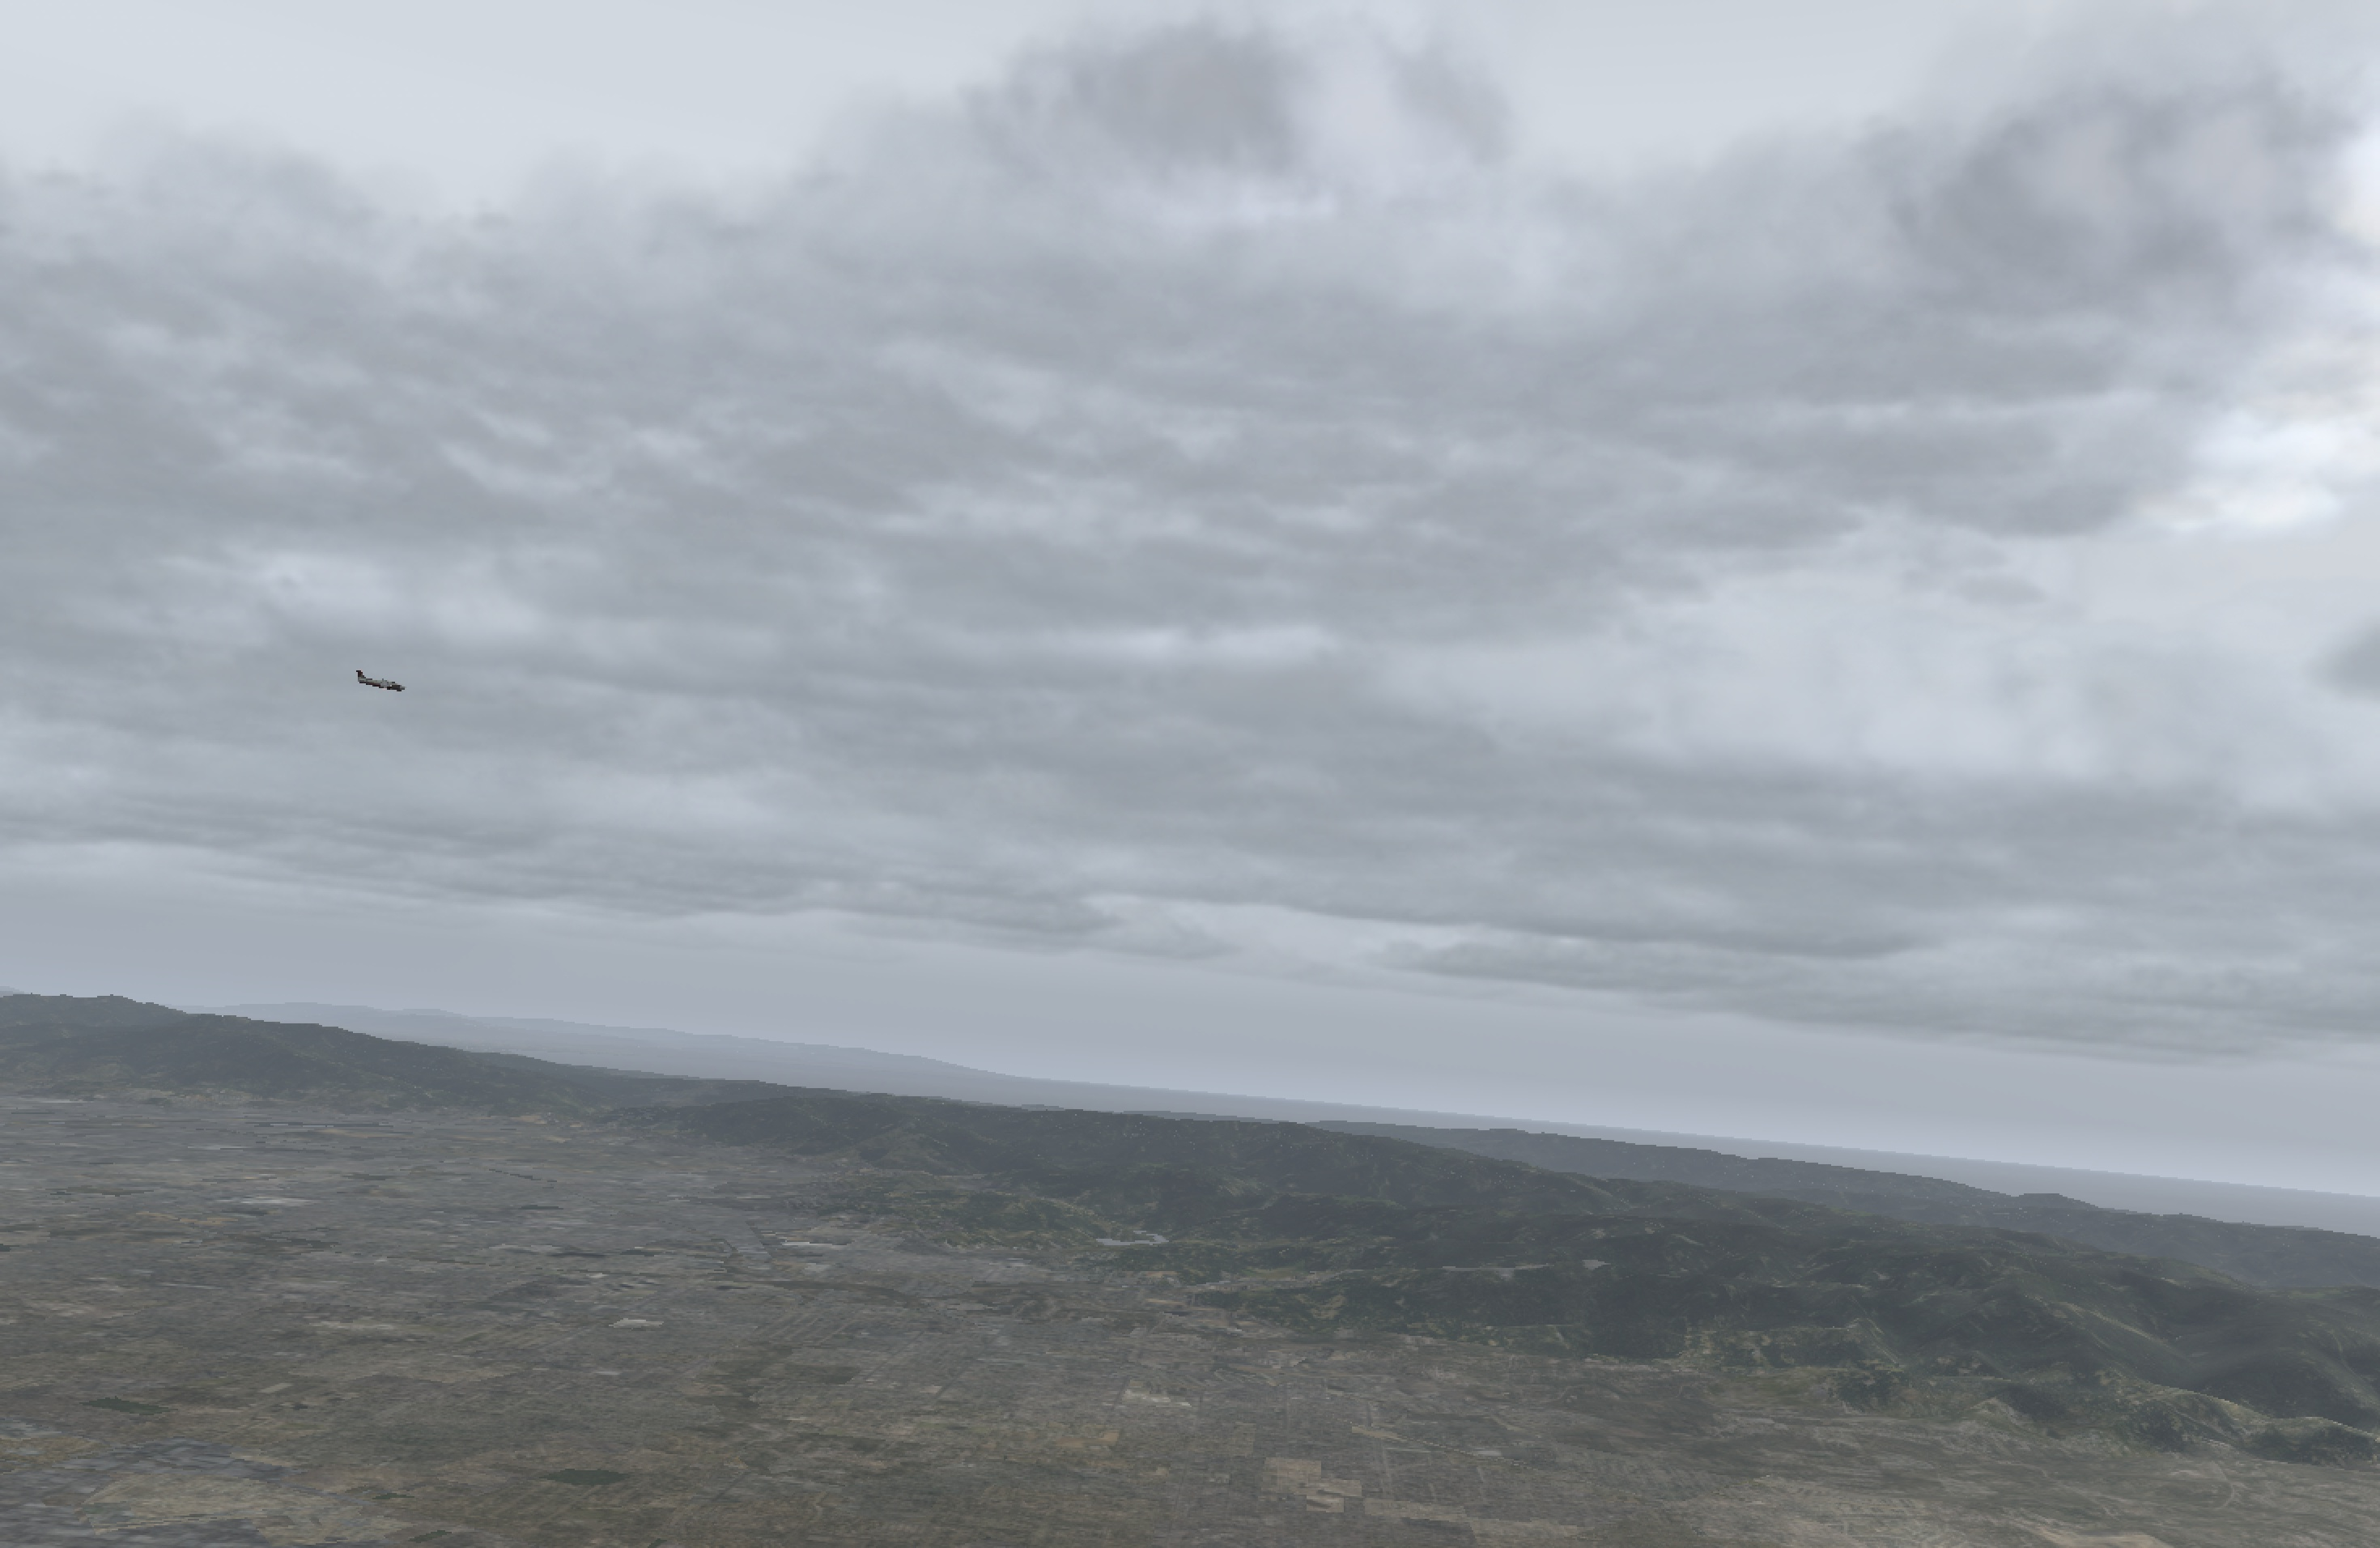aircraft: (357, 677, 422, 701)
